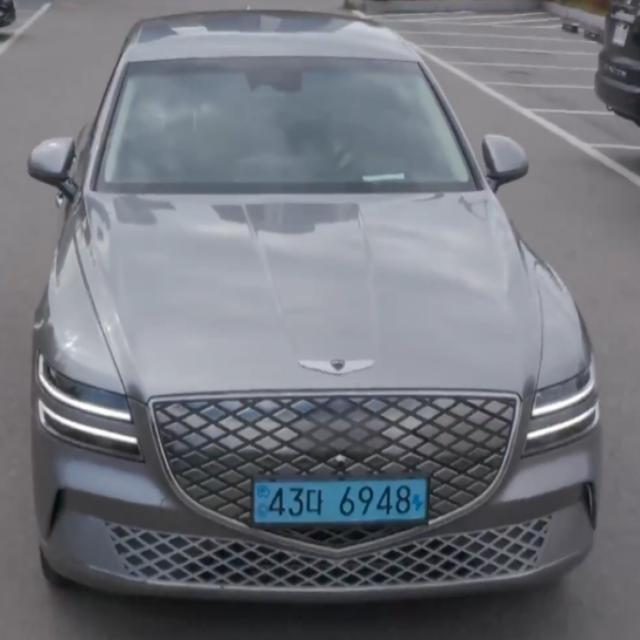car: (235, 471, 444, 539)
carev: (250, 479, 270, 527), (412, 476, 429, 522)
